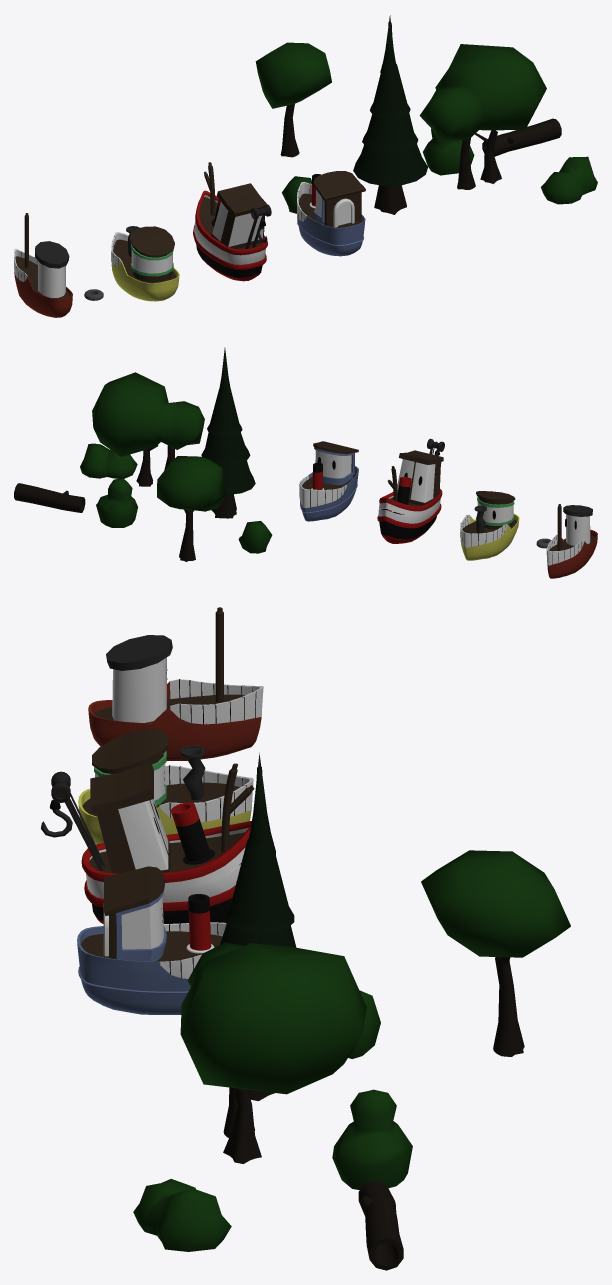
Rendered from Boata-Trees.fbx.
3 views of the same model, one above another, from view 1: azimuth 30°, elevation 25°; view 2: azimuth 150°, elevation 25°; view 3: azimuth 270°, elevation 25° (orthographic). The views are drawn at different scales.
Parts seen in each view (by area): view 1: TreeLeaves, Object007, Puffer2, Puffer003, TreeLeaves2, Puffer004, Leaves1, Bush5, Leaves2, Leaves3, Trunk, Bush2 (+6 smaller); view 2: TreeLeaves, Object007, Puffer2, TreeLeaves2, Puffer003, Puffer004, Bush2, Bush5, Trunk, Leaves2, Leaves3, Leaves1 (+5 smaller); view 3: TreeLeaves, Object007, Puffer2, Puffer004, TreeLeaves2, Puffer003, Bush2, Bush5, Leaves3, Trunk, TreeTrunk003, TreeTrunk1 (+4 smaller).
Part boxes in pixels (x1=…): TreeLeaves: x1=419, y1=44, x2=546, y2=140; Object007: x1=193, y1=162, x2=271, y2=281; Puffer2: x1=297, y1=171, x2=365, y2=256; Puffer003: x1=111, y1=226, x2=179, y2=301; TreeLeaves2: x1=255, y1=42, x2=331, y2=108; Puffer004: x1=14, y1=241, x2=72, y2=317; Leaves1: x1=353, y1=144, x2=427, y2=185; Bush5: x1=541, y1=156, x2=597, y2=204; Leaves2: x1=362, y1=113, x2=418, y2=151; Leaves3: x1=370, y1=64, x2=410, y2=118; Trunk: x1=482, y1=118, x2=561, y2=156; Bush2: x1=423, y1=129, x2=474, y2=175; TreeLeaves: x1=92, y1=372, x2=204, y2=456; Object007: x1=377, y1=438, x2=444, y2=543; Puffer2: x1=299, y1=441, x2=358, y2=521; TreeLeaves2: x1=157, y1=456, x2=227, y2=511; Puffer003: x1=460, y1=491, x2=519, y2=560; Puffer004: x1=546, y1=505, x2=597, y2=578; Bush2: x1=96, y1=478, x2=137, y2=527; Bush5: x1=80, y1=443, x2=137, y2=478; Trunk: x1=14, y1=483, x2=85, y2=512; Leaves2: x1=201, y1=432, x2=250, y2=465; Leaves3: x1=207, y1=394, x2=242, y2=436; Leaves1: x1=206, y1=452, x2=255, y2=494; TreeLeaves: x1=180, y1=942, x2=366, y2=1094; Object007: x1=41, y1=762, x2=254, y2=923; Puffer2: x1=77, y1=866, x2=226, y2=1014; Puffer004: x1=88, y1=635, x2=263, y2=760; TreeLeaves2: x1=421, y1=850, x2=570, y2=957; Puffer003: x1=78, y1=728, x2=253, y2=844; Bush2: x1=332, y1=1089, x2=412, y2=1189; Bush5: x1=133, y1=1179, x2=231, y2=1251; Leaves3: x1=225, y1=839, x2=294, y2=933; Trunk: x1=358, y1=1180, x2=403, y2=1270; TreeTrunk003: x1=493, y1=957, x2=524, y2=1056; TreeTrunk1: x1=223, y1=1088, x2=261, y2=1163.
Size of the model in its own units: 277 by 89.31 by 124.
